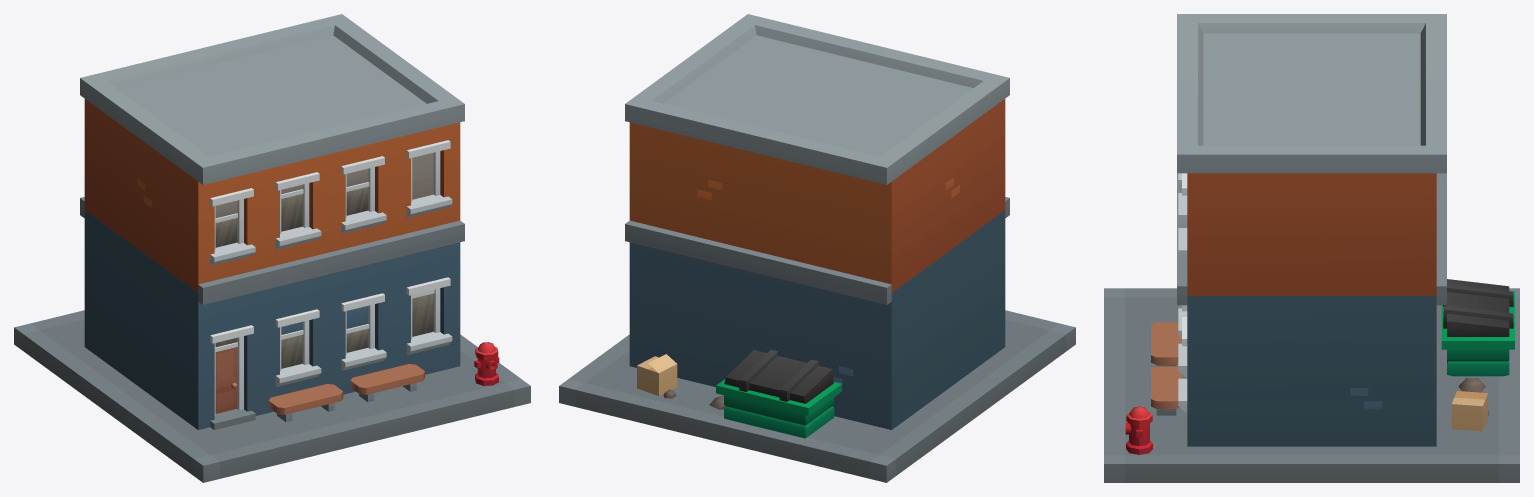
Rendered from building-b.glb.
3 renders of one model, left to right at view 1: azimuth 30°, elevation 25°; view 2: azimuth 150°, elevation 25°; view 3: azimuth 270°, elevation 25°, orthographic. The views are drawn at different scales.
Visible parts, largest first — view 1: building_B; view 2: building_B; view 3: building_B.
Part boxes in pixels (x1,y1,x2,y2): building_B: [14, 14, 530, 482]; building_B: [559, 14, 1075, 482]; building_B: [1104, 14, 1519, 482].
Size of the model in its own units: 2 by 1.65 by 2.
Materials: 1 (1 with a texture image).
